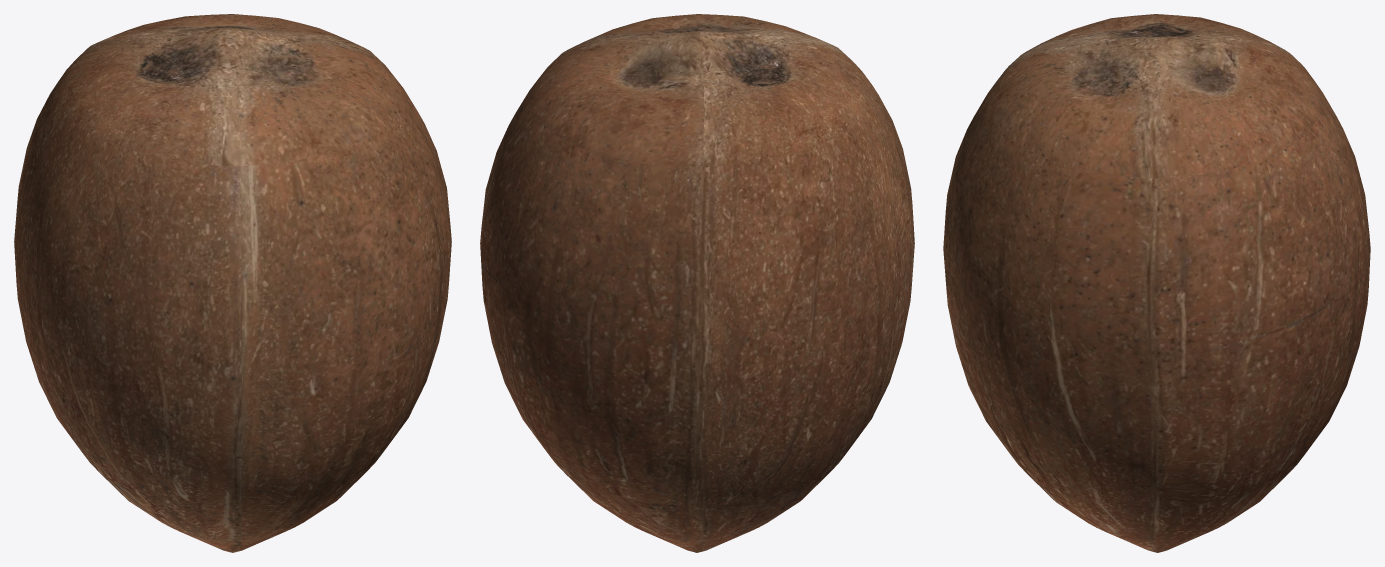
The model's file is realcoconut.glb.
3 views of the same model, side by side, from view 1: azimuth 30°, elevation 25°; view 2: azimuth 150°, elevation 25°; view 3: azimuth 270°, elevation 25° (orthographic). The views are drawn at different scales.
Visible parts, largest first — view 1: pSphere4; view 2: pSphere4; view 3: pSphere4.
Part boxes in pixels (<box>): pSphere4: <box>14,14,451,552</box>; pSphere4: <box>480,14,914,552</box>; pSphere4: <box>943,14,1370,552</box>.
Bounding box in the file's own units: 0.1085 × 0.14 × 0.1064.
Materials: 1 (1 with a texture image).
